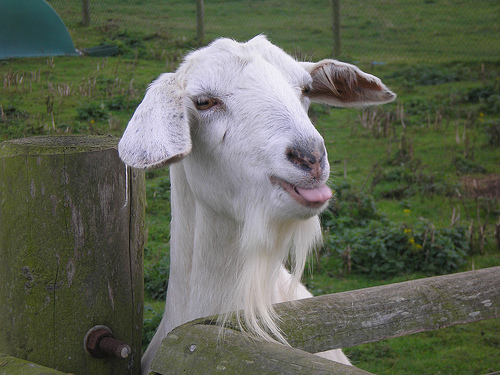goat: (116, 31, 399, 375)
